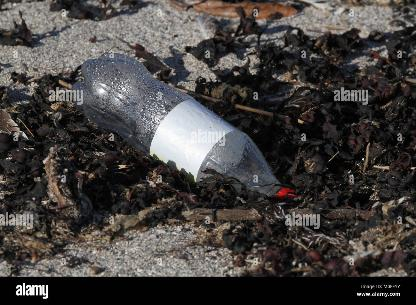Plastic Bottle: (70, 51, 298, 202)
